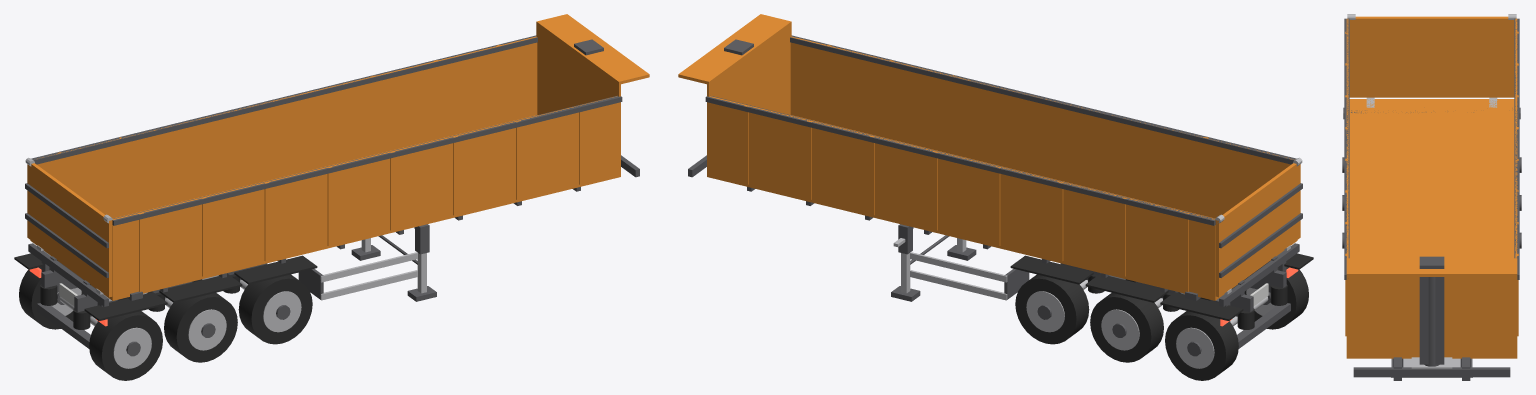
The model's file is SM_TipperTrailer.fbx.
The picture shows the model from 3 angles, left to right: view 1: azimuth 30°, elevation 25°; view 2: azimuth 150°, elevation 25°; view 3: azimuth 270°, elevation 25°; orthographic projection. The views are drawn at different scales.
Parts seen in each view (by area): view 1: TT_Body, TT_Chassis, TT_Tailgate, TT_Wheel_A1R, TT_Wheel_A2R, TT_Wheel_A3R, TT_Wheel_A3L, TT_LandingLegs; view 2: TT_Body, TT_Chassis, TT_Tailgate, TT_Wheel_A1L, TT_Wheel_A2L, TT_Wheel_A3L, TT_Wheel_A3R, TT_LandingLegs; view 3: TT_Body, TT_Tailgate, TT_Chassis, TT_Hoist_Stage1.
Part boxes in pixels (bbox=[...]): TT_Body: bbox=[30, 14, 649, 300]; TT_Chassis: bbox=[14, 155, 639, 348]; TT_Tailgate: bbox=[25, 157, 112, 297]; TT_Wheel_A1R: bbox=[238, 274, 312, 344]; TT_Wheel_A2R: bbox=[164, 293, 237, 362]; TT_Wheel_A3R: bbox=[89, 311, 162, 380]; TT_Wheel_A3L: bbox=[19, 266, 83, 329]; TT_LandingLegs: bbox=[351, 235, 436, 301]; TT_Body: bbox=[678, 14, 1297, 300]; TT_Chassis: bbox=[688, 155, 1313, 348]; TT_Tailgate: bbox=[1215, 157, 1302, 297]; TT_Wheel_A1L: bbox=[1015, 274, 1089, 344]; TT_Wheel_A2L: bbox=[1090, 293, 1163, 362]; TT_Wheel_A3L: bbox=[1165, 311, 1238, 380]; TT_Wheel_A3R: bbox=[1244, 266, 1308, 329]; TT_LandingLegs: bbox=[891, 235, 976, 301]; TT_Body: bbox=[1343, 18, 1520, 367]; TT_Tailgate: bbox=[1347, 14, 1516, 97]; TT_Chassis: bbox=[1353, 97, 1510, 380]; TT_Hoist_Stage1: bbox=[1424, 277, 1439, 366].
Size of the model in its own units: 966 by 305 by 263.
